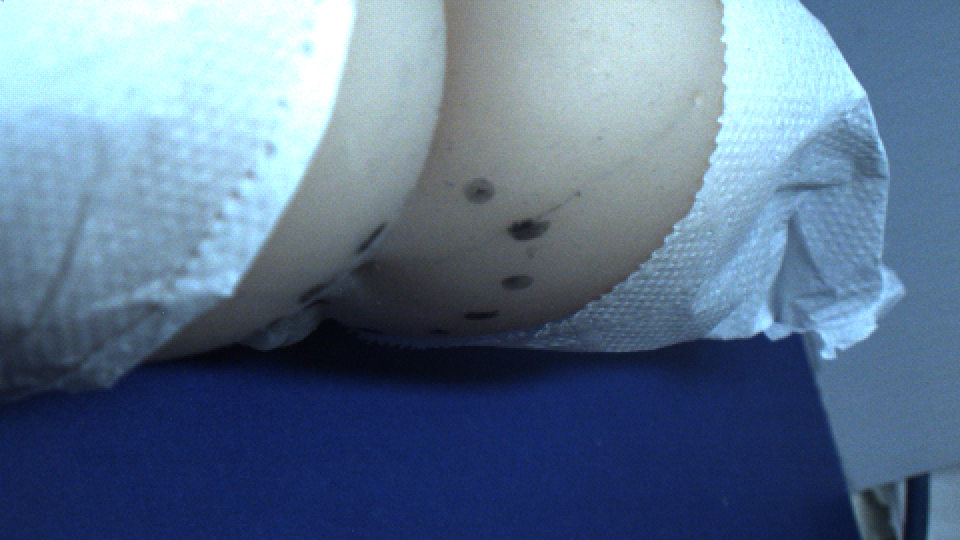asarp_marker: (348, 215, 391, 259), (506, 216, 556, 245), (460, 174, 499, 208), (300, 274, 336, 302), (499, 274, 543, 293), (460, 308, 506, 323)
